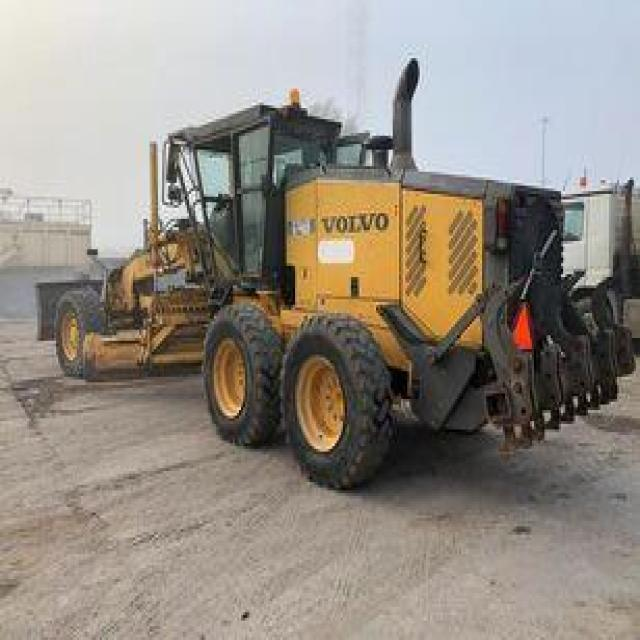buldozerpayloadergrader: (15, 75, 630, 485)
